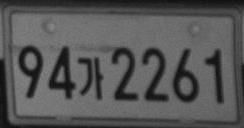1: (203, 48, 231, 103)
2: (111, 46, 139, 101), (142, 47, 168, 102)
4: (48, 45, 76, 100)
6: (172, 48, 199, 102)
9: (17, 44, 43, 98)
가: (77, 56, 104, 100)
